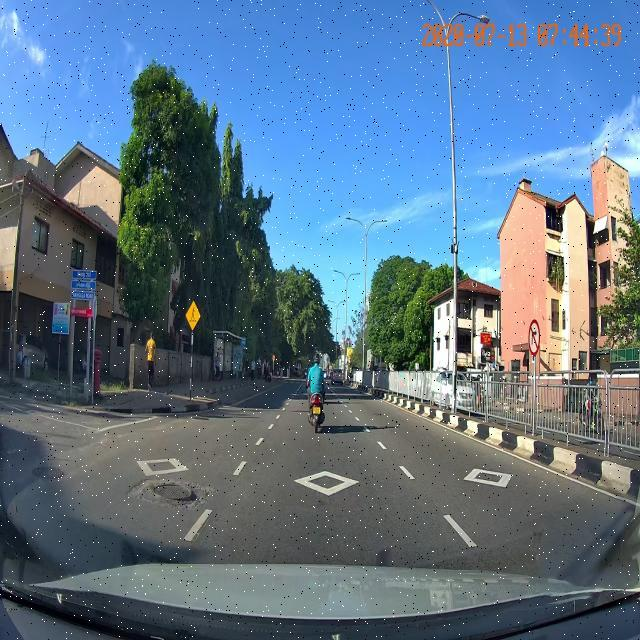diamond: (199, 446, 427, 506)
